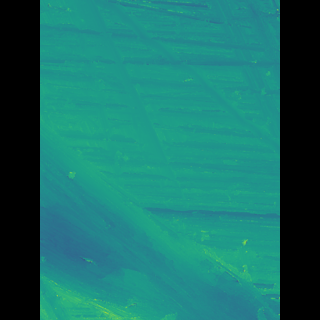Loch: (67, 114, 249, 320), (109, 0, 250, 156)
